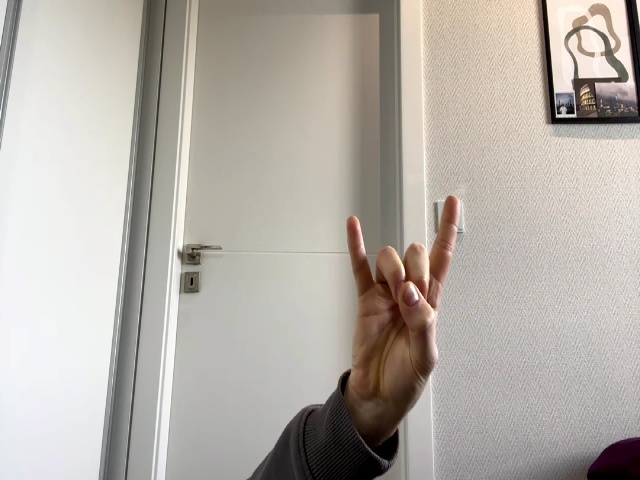Y: (346, 194, 460, 373)
